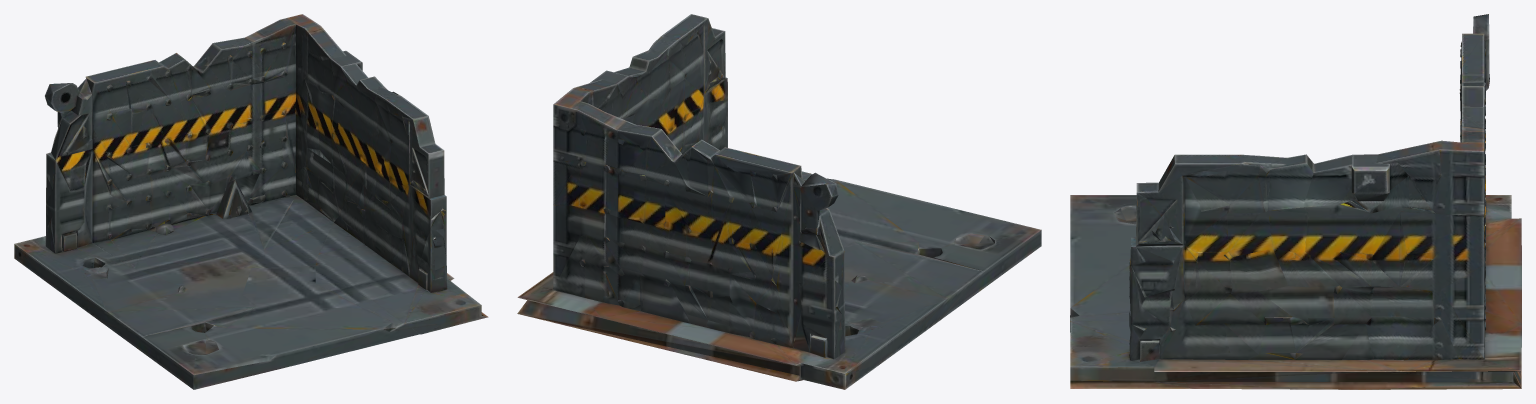
The model's file is wall_dock.glb.
3 views of the same model, side by side, from view 1: azimuth 30°, elevation 25°; view 2: azimuth 150°, elevation 25°; view 3: azimuth 270°, elevation 25° (orthographic). The views are drawn at different scales.
Bounding box in the file's own units: 1.76 × 1.06 × 1.9.
Materials: 1 (1 with a texture image).
